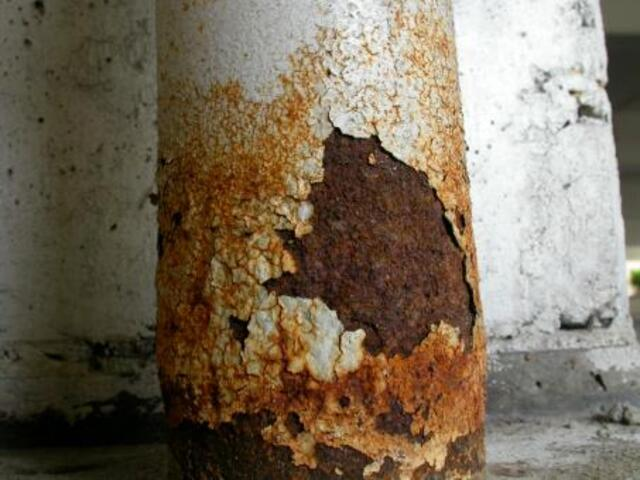Severe: (157, 80, 491, 476)
